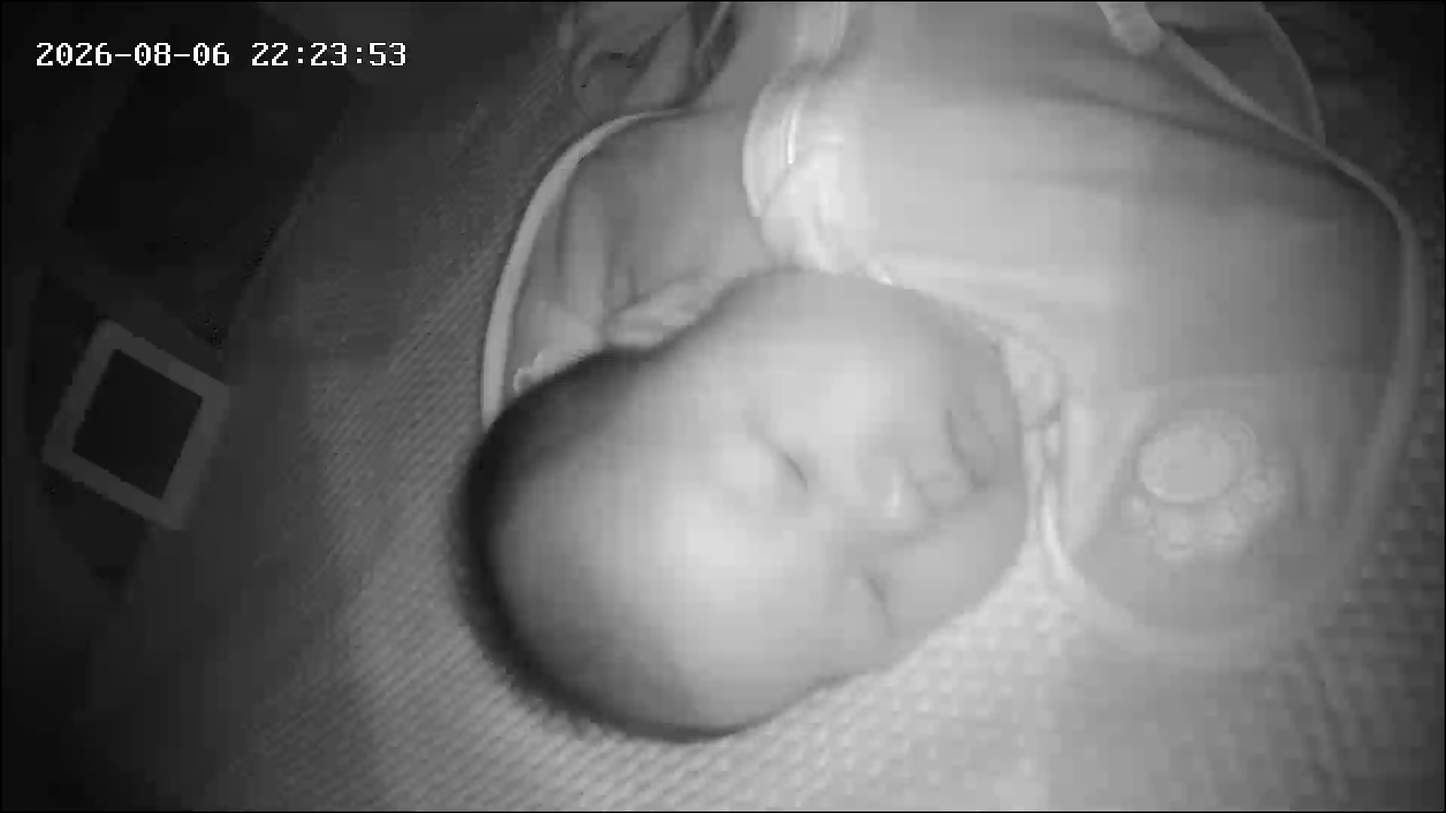baby: (446, 4, 1446, 750)
baby_face: (445, 242, 1032, 736)
